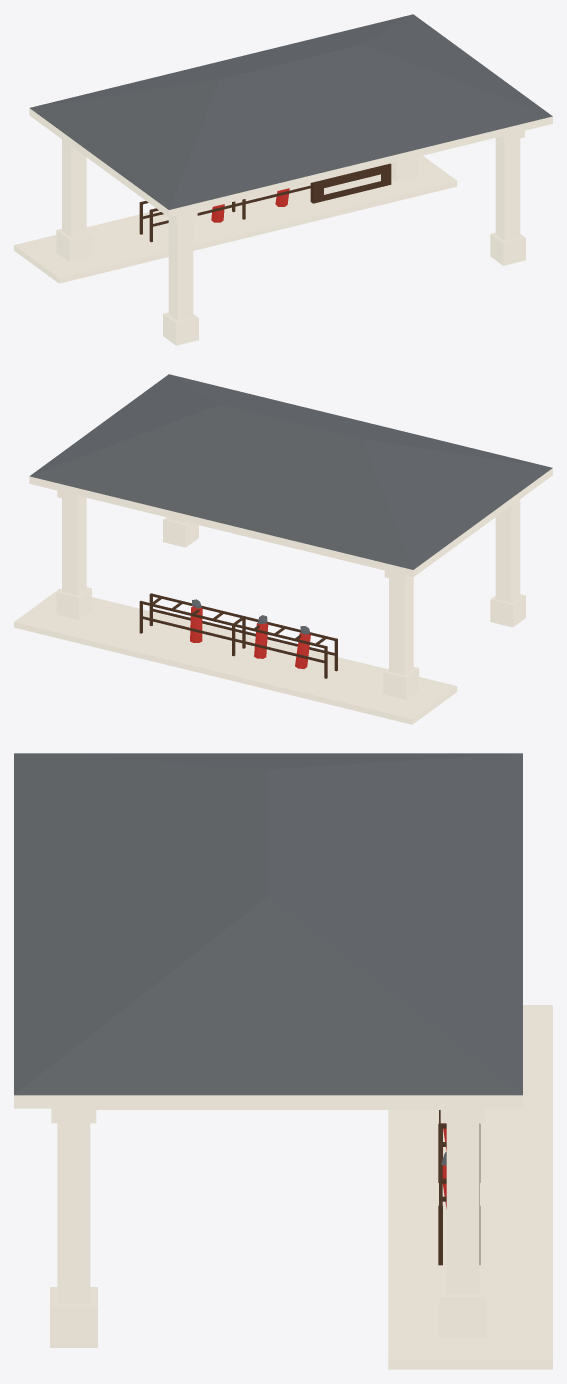
File: Blender_BagDrop_1.glb
3 renders of one model, top to bottom at view 1: azimuth 30°, elevation 25°; view 2: azimuth 150°, elevation 25°; view 3: azimuth 270°, elevation 25°, orthographic. The views are drawn at different scales.
Visible parts, largest first — view 1: Blender_BagDrop_1; view 2: Blender_BagDrop_1; view 3: Blender_BagDrop_1.
Part boxes in pixels (<box>): Blender_BagDrop_1: <box>14,14,552,345</box>; Blender_BagDrop_1: <box>14,374,552,724</box>; Blender_BagDrop_1: <box>14,753,552,1369</box>.
Size of the model in its own units: 11.2 by 5.3 by 7.2.
